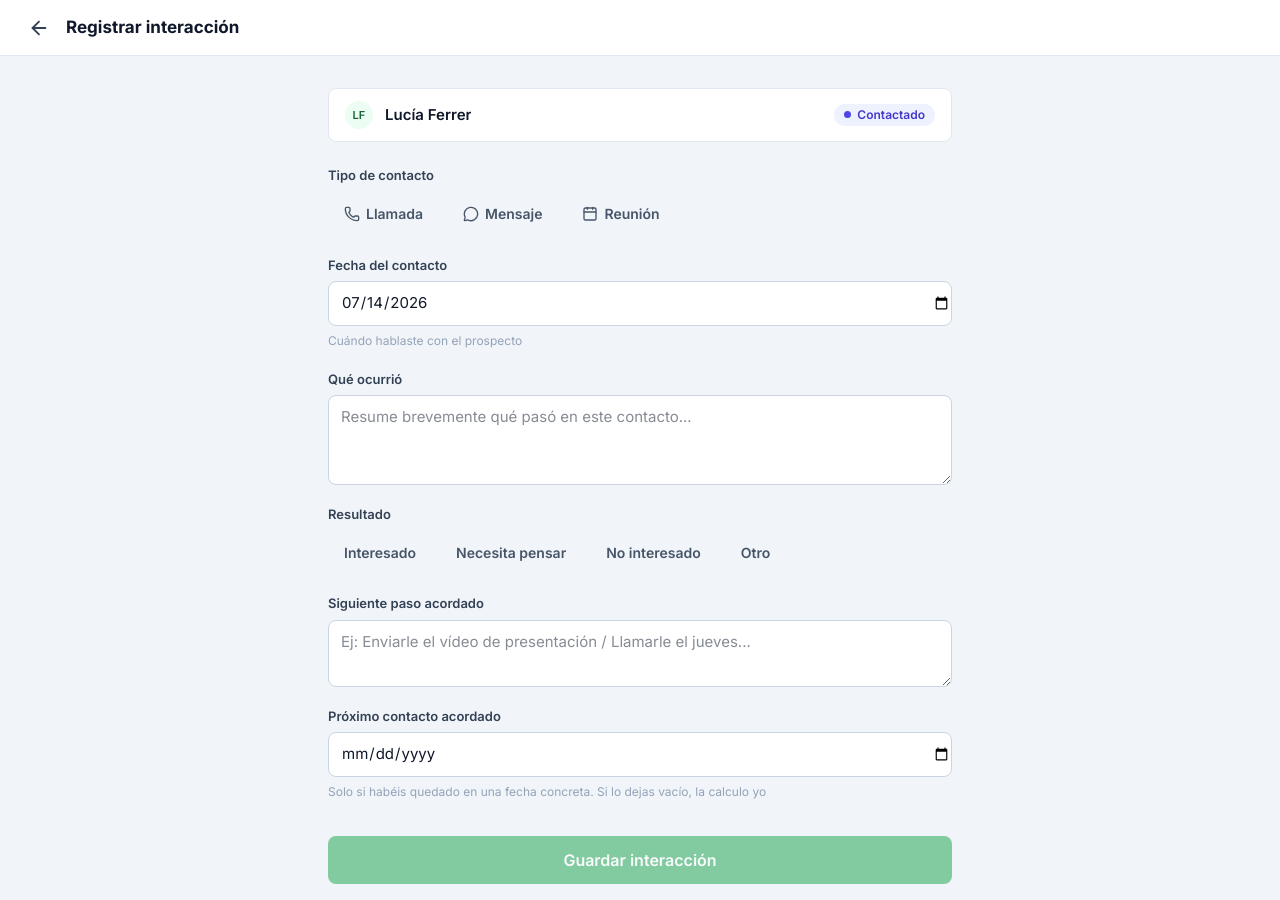
Test case: guardado (JOS-16) › VALIDATION_ERROR del servidor con field se mapea inline y conserva los datos
The image size is (1280, 900).
Click the radio button labelled "Llamada": (384, 214) x1=328 y1=192 x2=439 y2=236
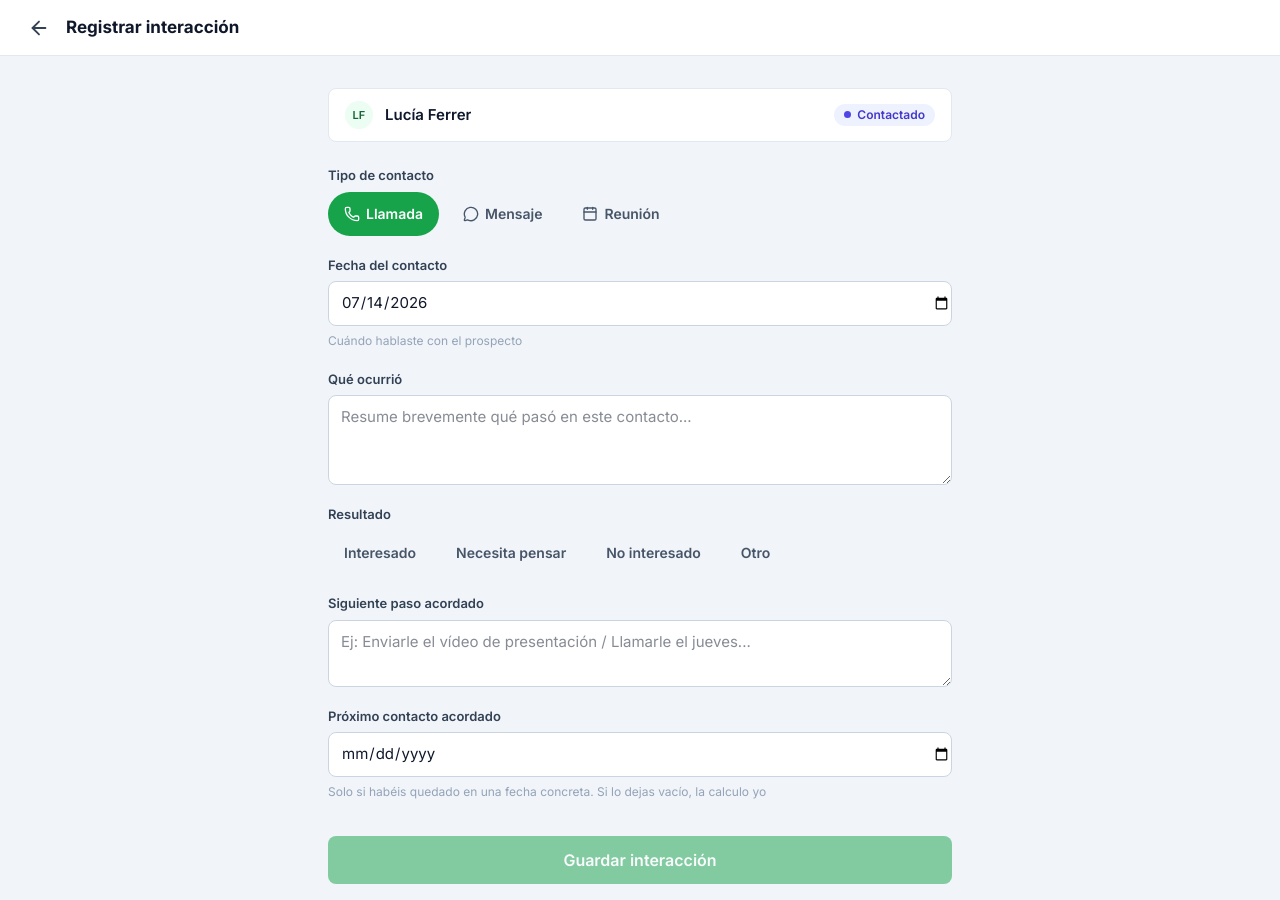
In the text box labelled "Qué ocurrió": (640, 440) x1=328 y1=395 x2=952 y2=484, type " Llamada corta "
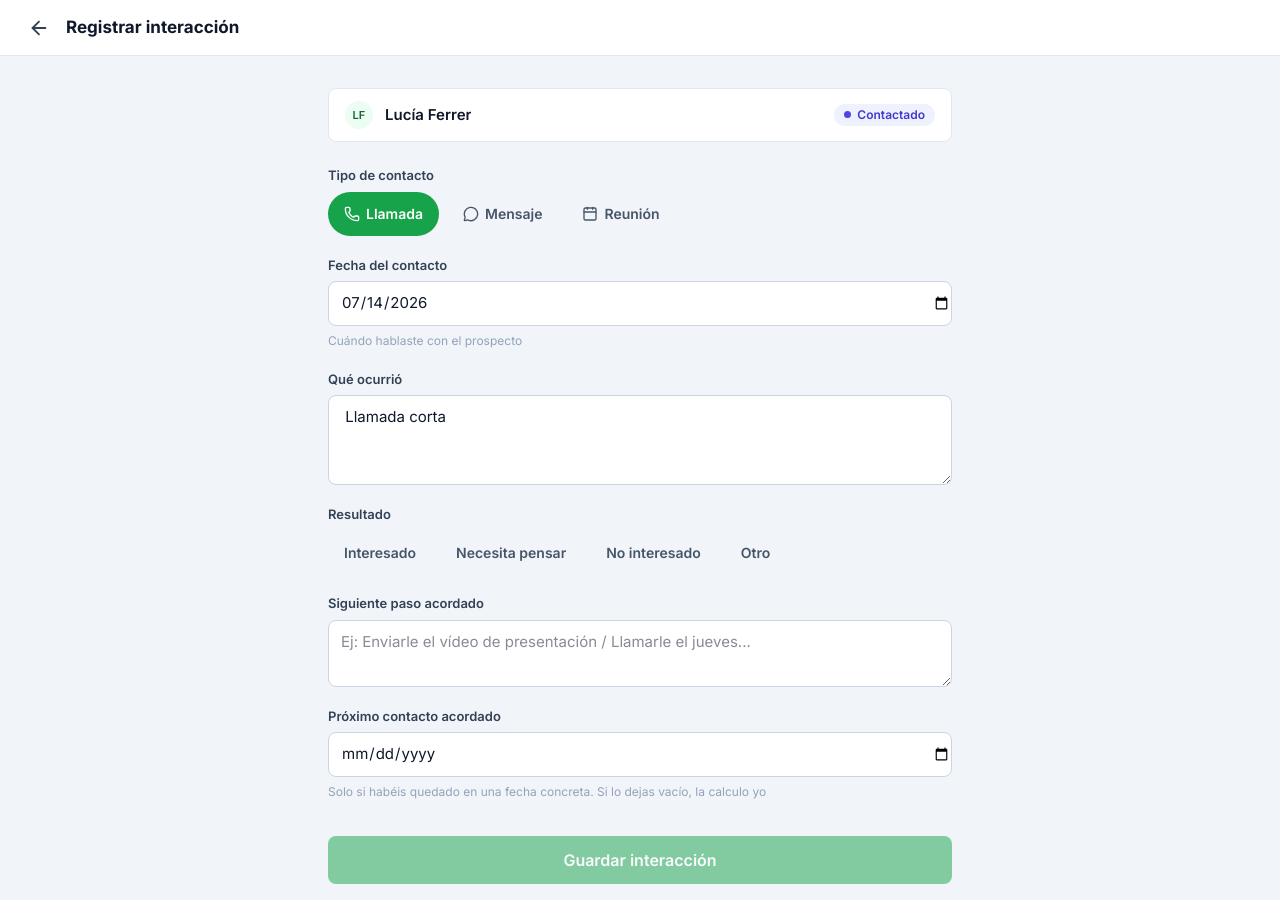
Click the radio button labelled "Interesado": (380, 552) x1=328 y1=530 x2=432 y2=574
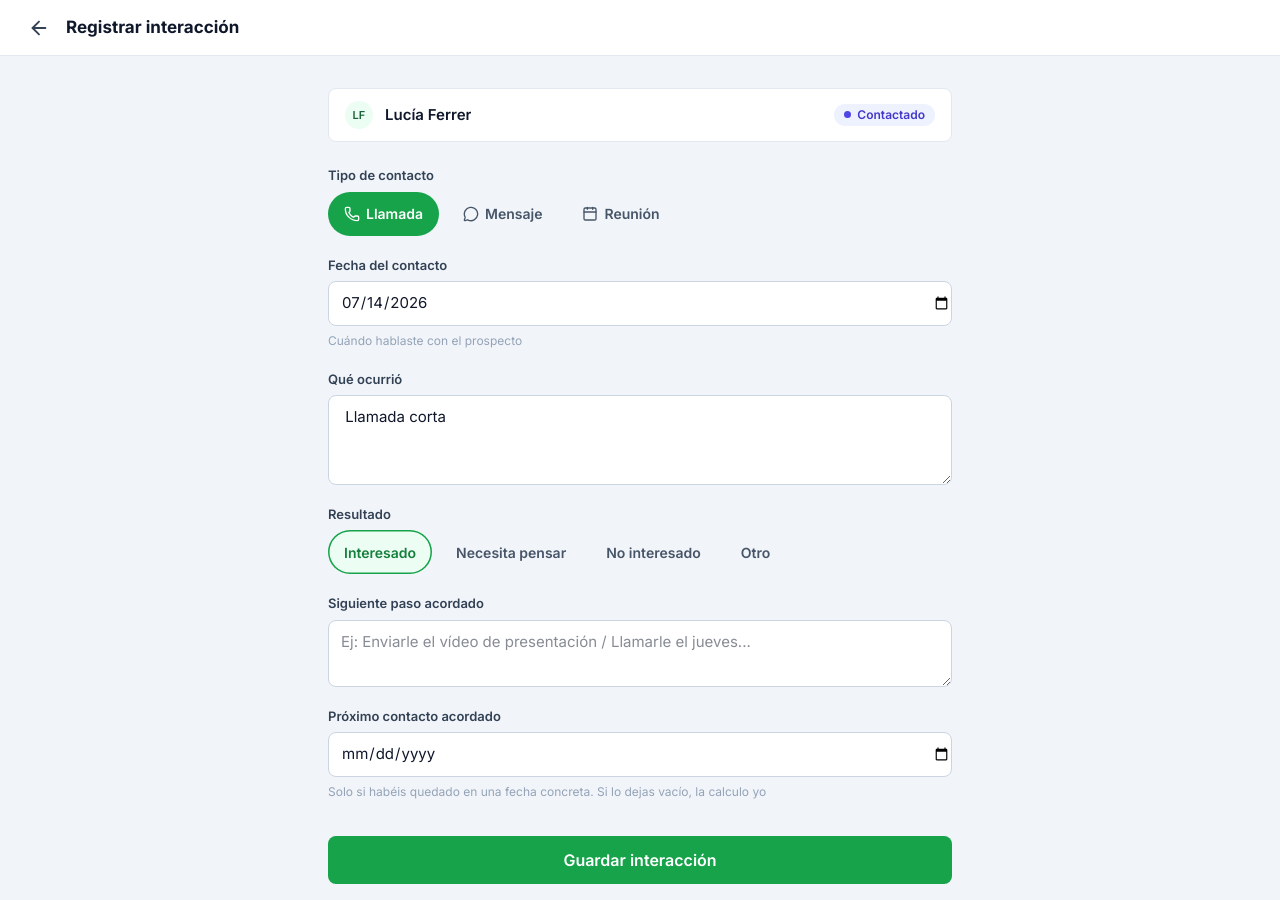
Submit the form, box x1=304 y1=56 x2=976 y2=899
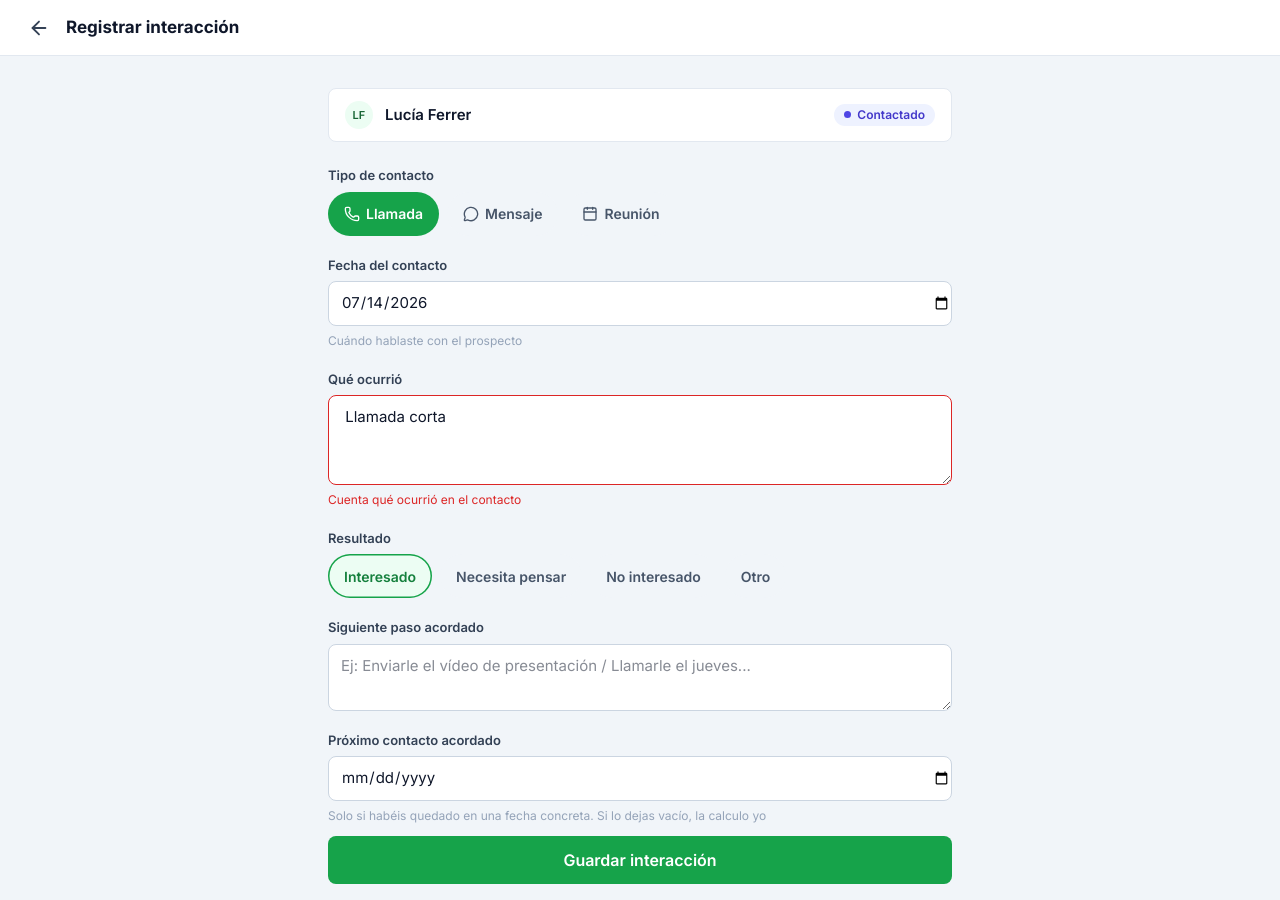
Expected: the text "Cuenta qué ocurrió en el contacto" is shown, x1=328 y1=492 x2=521 y2=506
